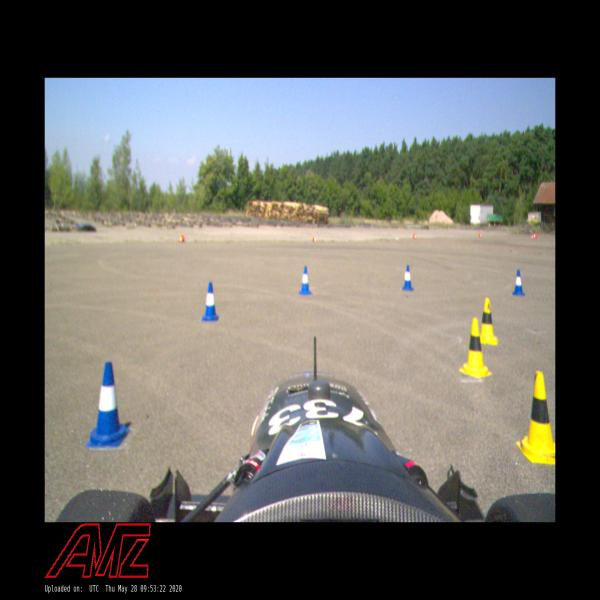blue_cone: (84, 361, 131, 451), (201, 281, 219, 322), (512, 268, 525, 296), (298, 266, 311, 294), (403, 264, 414, 291)
orange_cone: (178, 234, 184, 243), (312, 236, 318, 242), (531, 234, 537, 240), (413, 233, 416, 239), (479, 232, 482, 237)
yellow_cone: (514, 372, 555, 466), (458, 317, 492, 378), (477, 298, 498, 345)
